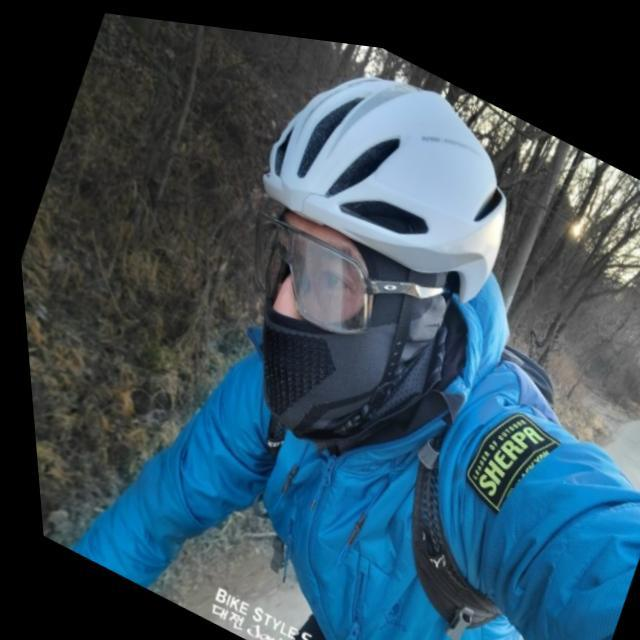Helmet: (242, 73, 510, 448)
